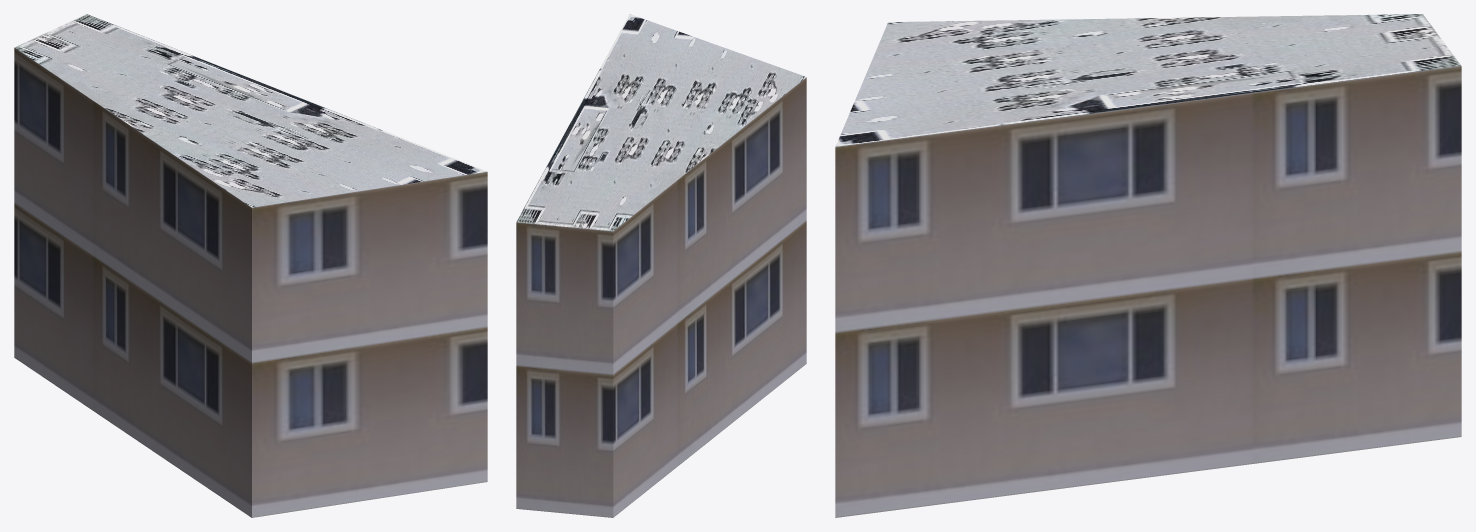
Rendered from ResTex__4644.fbx.
3 renders of one model, left to right at view 1: azimuth 30°, elevation 25°; view 2: azimuth 150°, elevation 25°; view 3: azimuth 270°, elevation 25°, orthographic. The views are drawn at different scales.
Parts seen in each view (by area): view 1: CityEngineMaterial_21_m, CityEngineMaterial_m; view 2: CityEngineMaterial_21_m, CityEngineMaterial_m; view 3: CityEngineMaterial_21_m, CityEngineMaterial_m.
Part boxes in pixels (bbox=[...]): CityEngineMaterial_21_m: bbox=[14, 47, 487, 517]; CityEngineMaterial_m: bbox=[14, 14, 486, 207]; CityEngineMaterial_21_m: bbox=[516, 77, 806, 517]; CityEngineMaterial_m: bbox=[516, 14, 806, 231]; CityEngineMaterial_21_m: bbox=[835, 66, 1461, 517]; CityEngineMaterial_m: bbox=[835, 14, 1461, 146].
Size of the model in its own units: 4.61 by 6 by 9.17.
2 materials, 2 textured.
